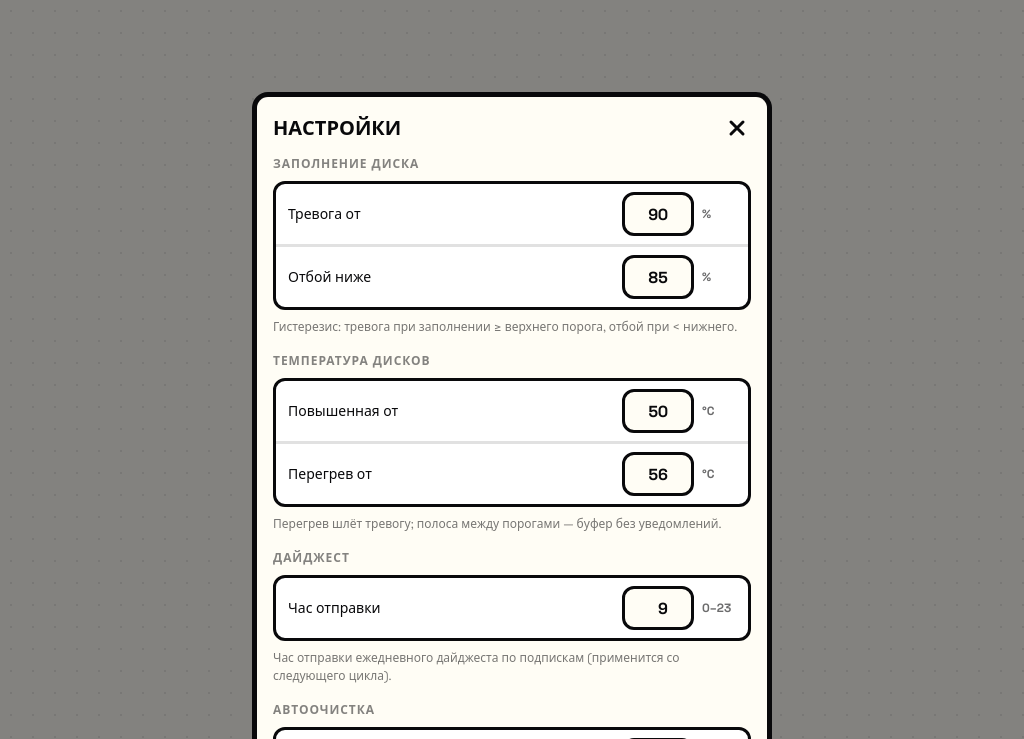
SettingsSheet — save flow › PUTs the edited values and shows saved feedback
Replace the text in the number field with test id "settings-input-digestHour" with "18" at {"x": 658, "y": 608}, box [622, 586, 694, 630]
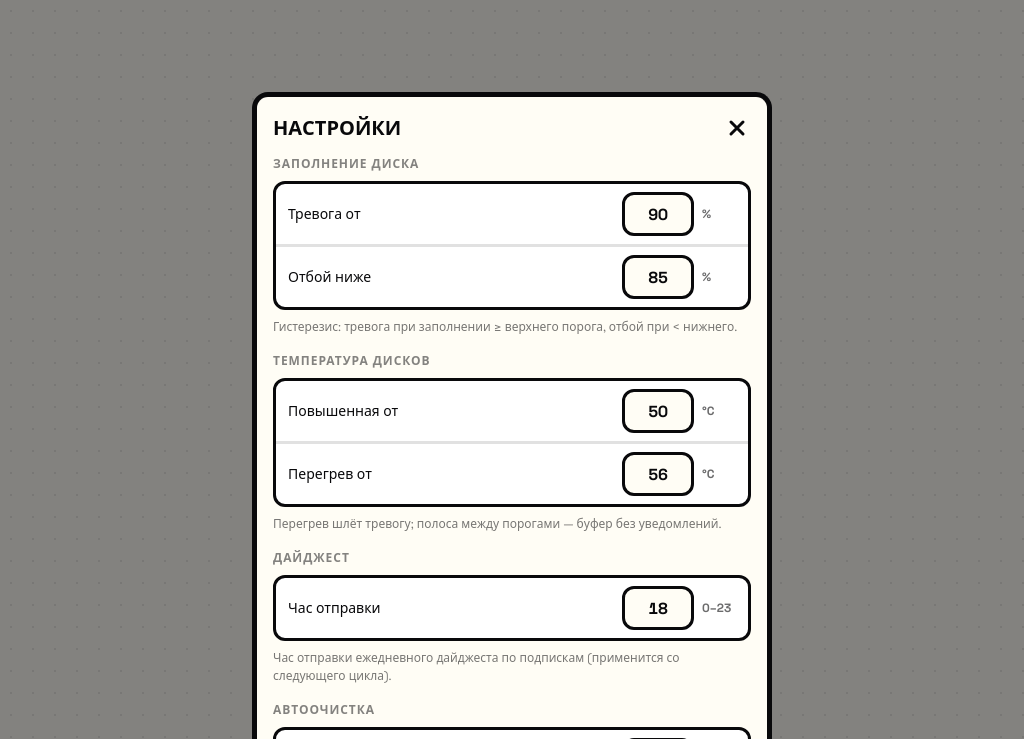
Replace the text in the number field labelled "Тревога от" with "95" at {"x": 658, "y": 214}, box [622, 192, 694, 236]
(page scrolled)
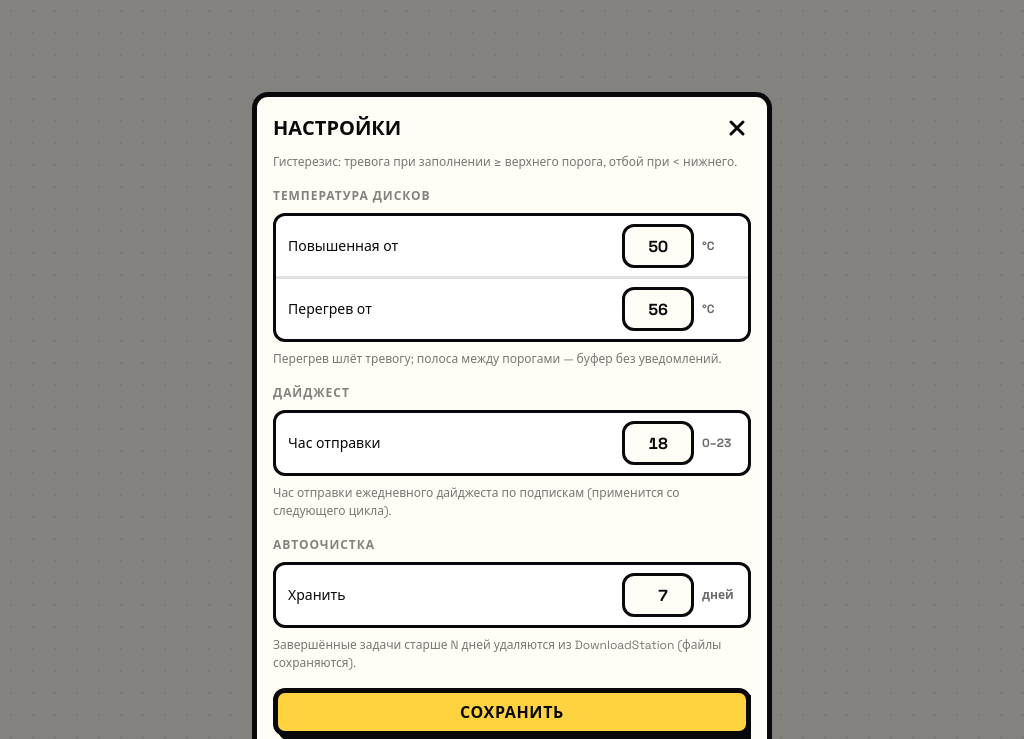
Click the button with test id "settings-save" at {"x": 512, "y": 712}, box [273, 688, 751, 736]
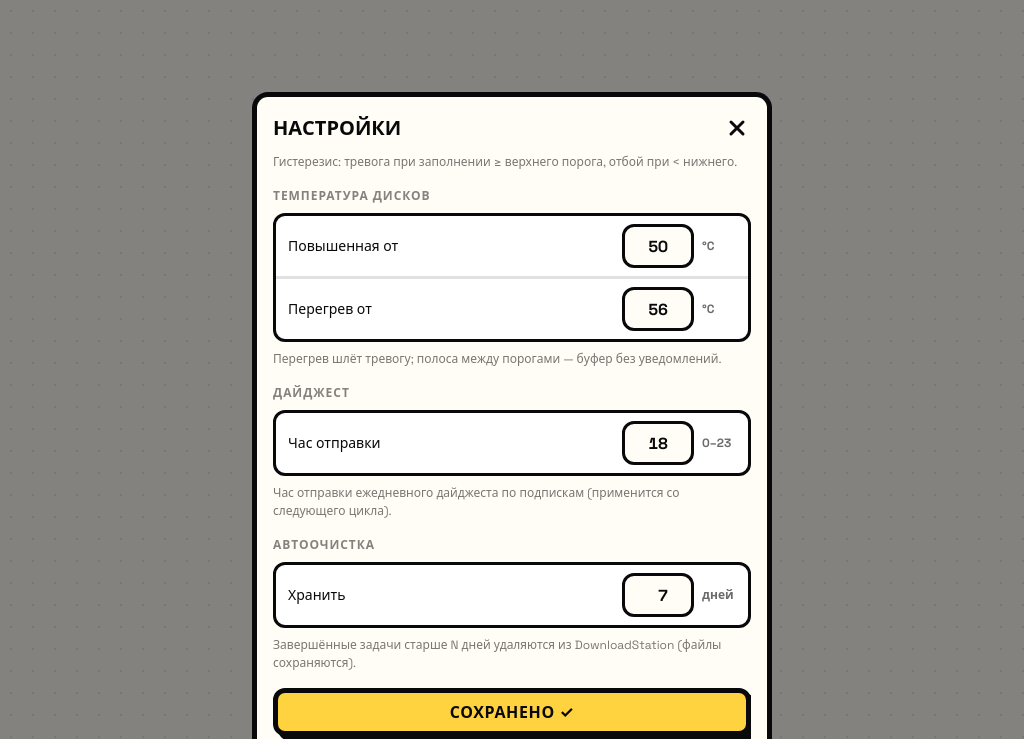
Check: the button with test id "settings-save" shows "Сохранено", box [273, 688, 751, 736]
